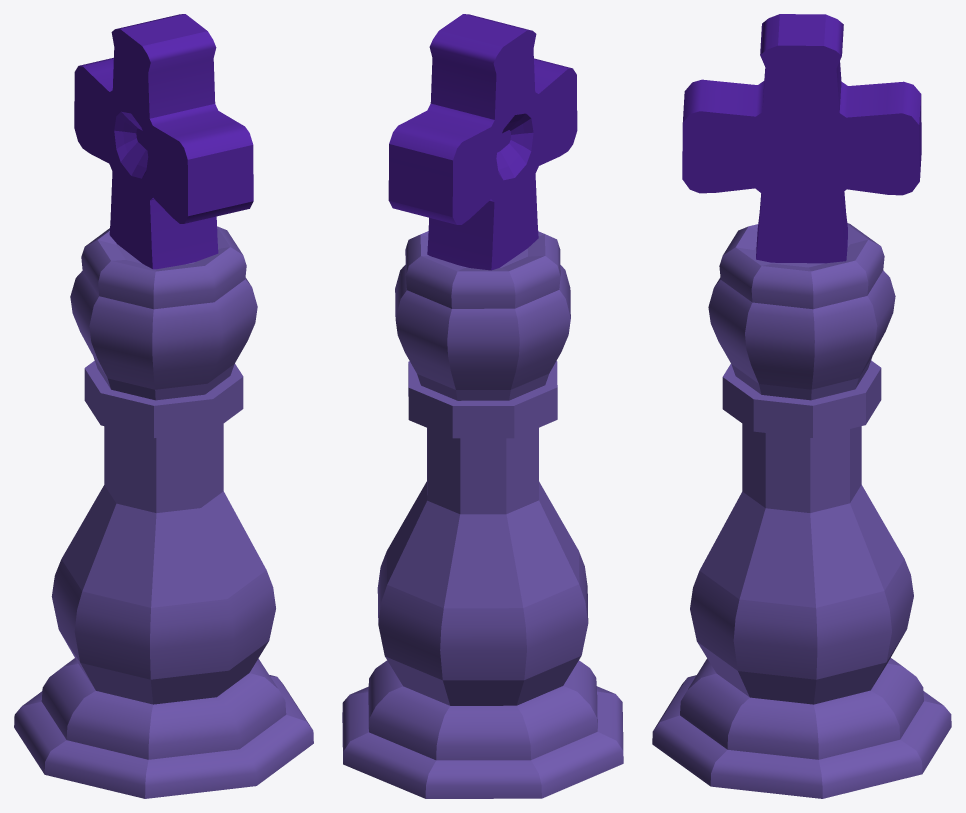
File: rey.fbx
3 renders of one model, left to right at view 1: azimuth 30°, elevation 25°; view 2: azimuth 150°, elevation 25°; view 3: azimuth 270°, elevation 25°, orthographic.
Visible parts, largest first — view 1: rey, cruz; view 2: rey, cruz; view 3: rey, cruz.
Part boxes in pixels (<box>): rey: <box>14,226,313,798</box>; cruz: <box>74,14,253,269</box>; rey: <box>342,231,623,798</box>; cruz: <box>388,14,577,270</box>; rey: <box>652,223,951,798</box>; cruz: <box>682,14,921,263</box>.
Size of the model in its own units: 1.47 by 3.81 by 1.47.
